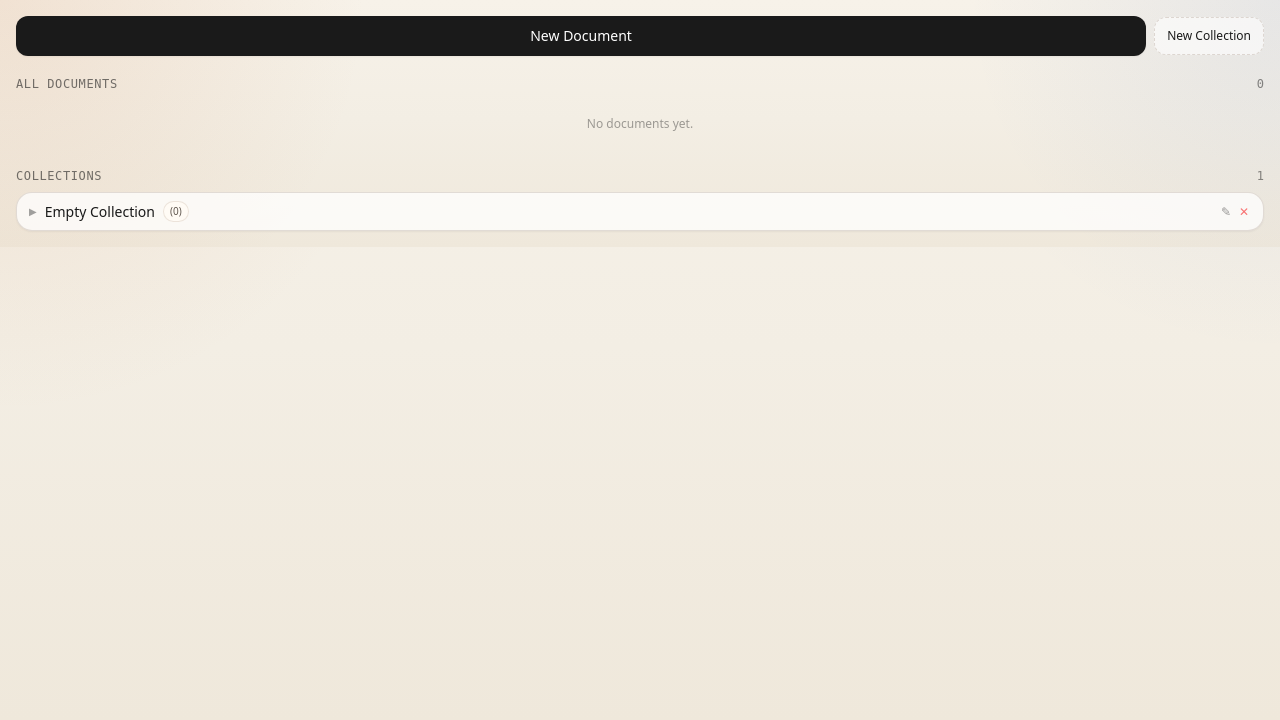
it: DocumentHubSidebar delete-collection confirmation gate (#115) › does not mention a document count when the collection is empty
This screenshot has width=1280, height=720.
Click the button named "Delete collection" at (1244, 212), box [1237, 202, 1251, 222]
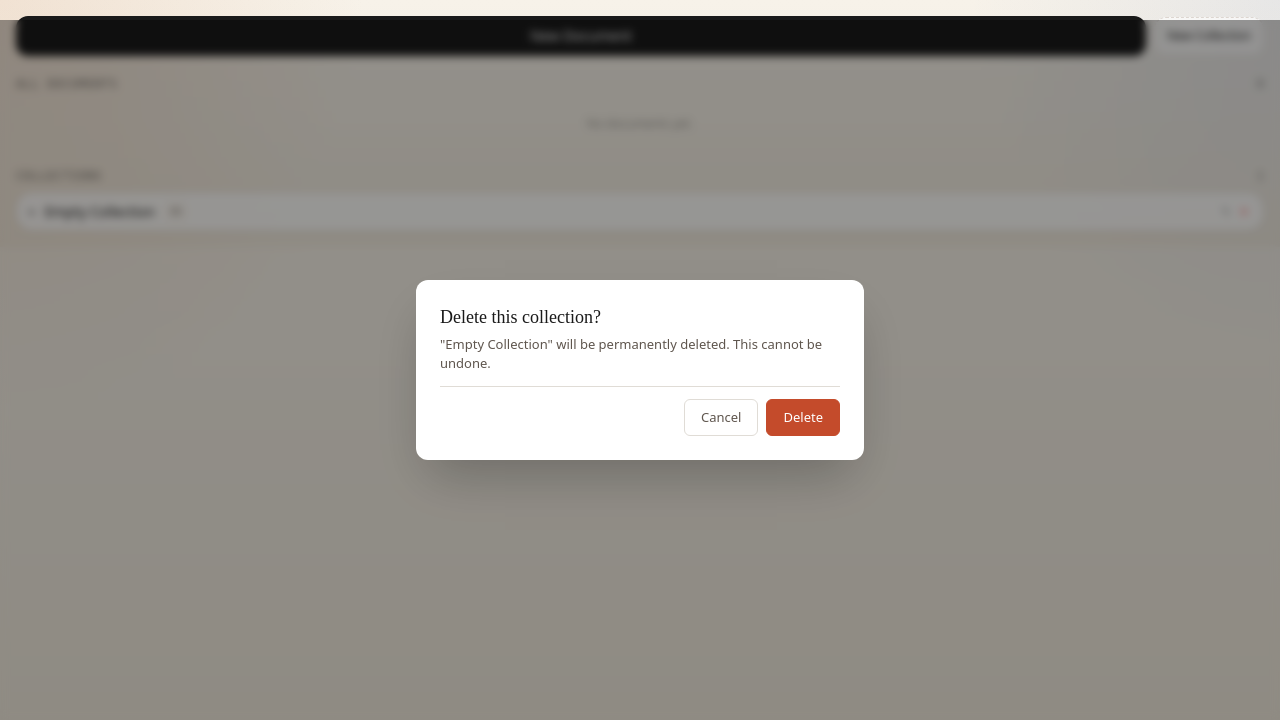
Expected: the element with class "confirmation-description" does not show "document"
Result: the text with class "confirmation-description" shows "Empty Collection" at [440, 335, 822, 372]
